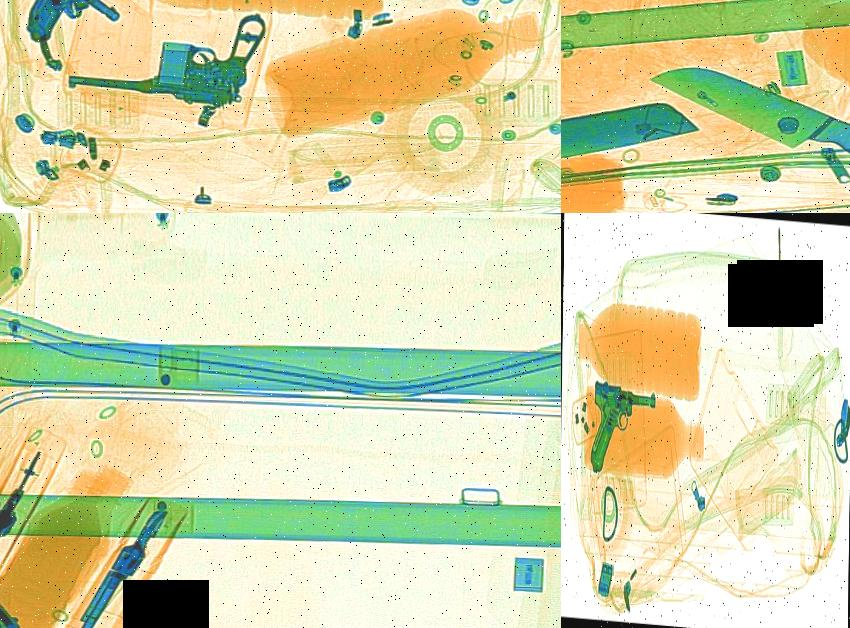Gun: (60, 0, 280, 109), (53, 501, 178, 628), (579, 370, 658, 490), (0, 444, 49, 594), (0, 0, 131, 38)
Knife: (635, 43, 850, 205), (561, 83, 706, 206)
